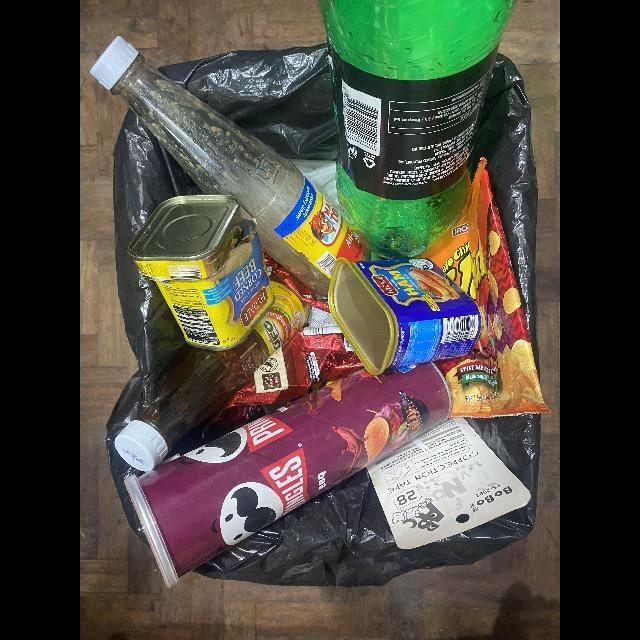aluminum: (127, 195, 275, 351), (327, 257, 482, 375)
cardboard: (366, 417, 531, 549)
food_wrapper: (413, 157, 552, 419)
glass_bottle: (90, 34, 370, 298), (114, 275, 309, 472)
paper: (124, 364, 453, 588)
plastic_bottle: (319, 0, 520, 260)
